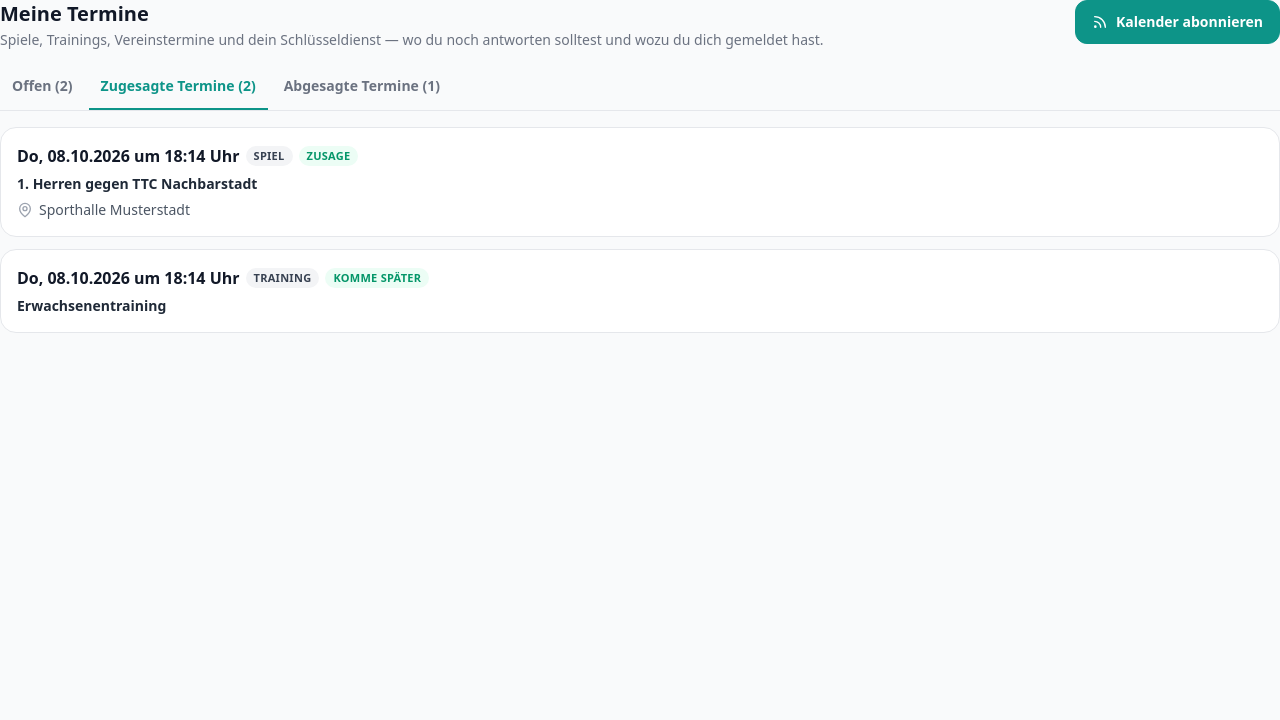
Test: SubscribeDialog › sagt, was drin ist und was der Link bedeutet
Click the button "Kalender abonnieren": (1177, 22) [1075,0,1279,44]
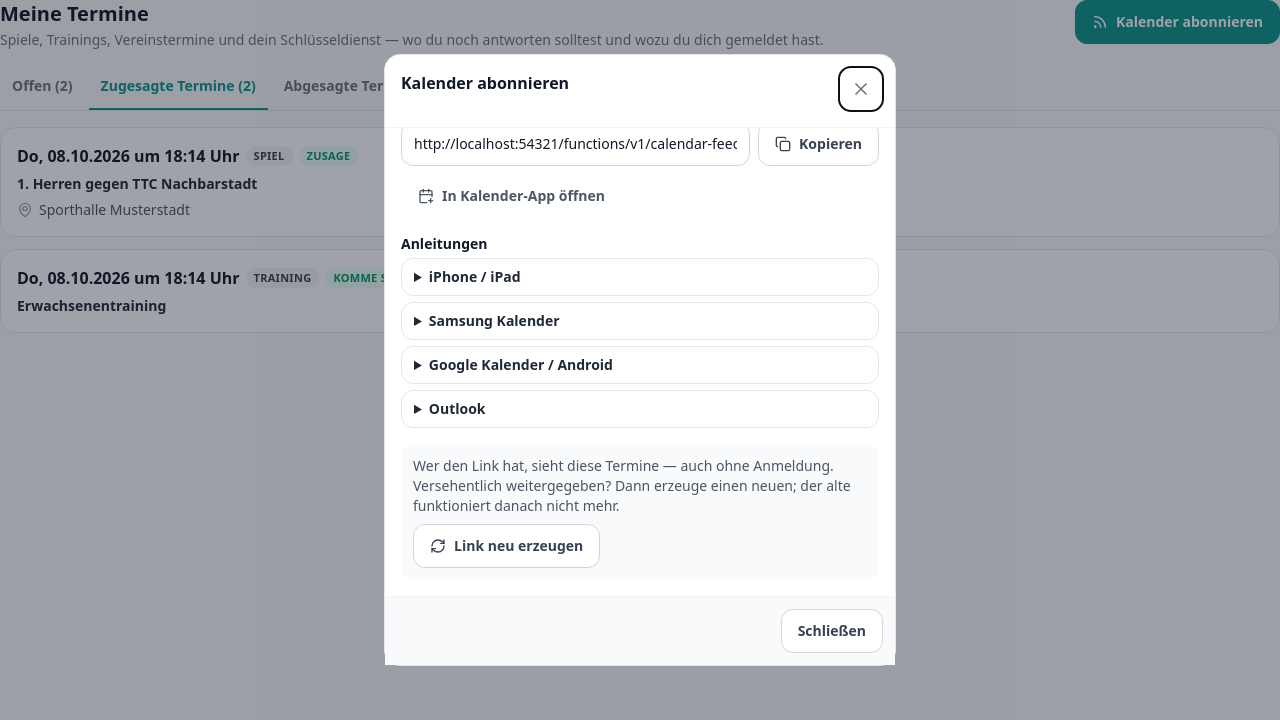
Result: the text "Wer den Link hat, sieht diese Termine" is shown at [413,456,851,515]
